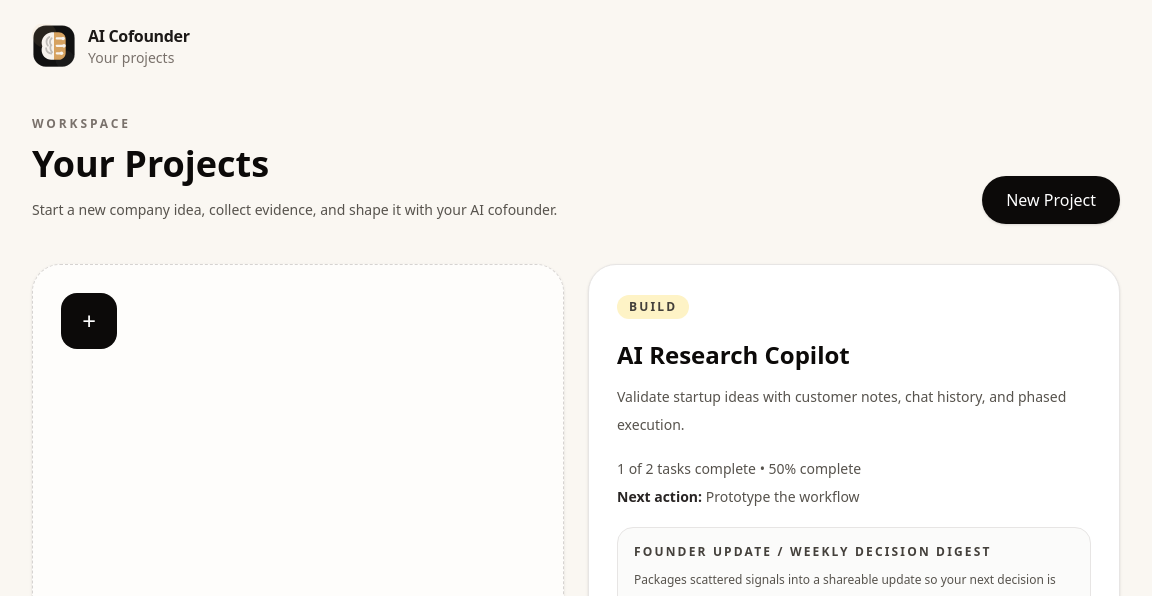
it: DashboardPage › does not clear the stored draft when a returning user opens onboarding
Click the button "New Project".
click(1051, 200)  # box [982,176,1120,224]
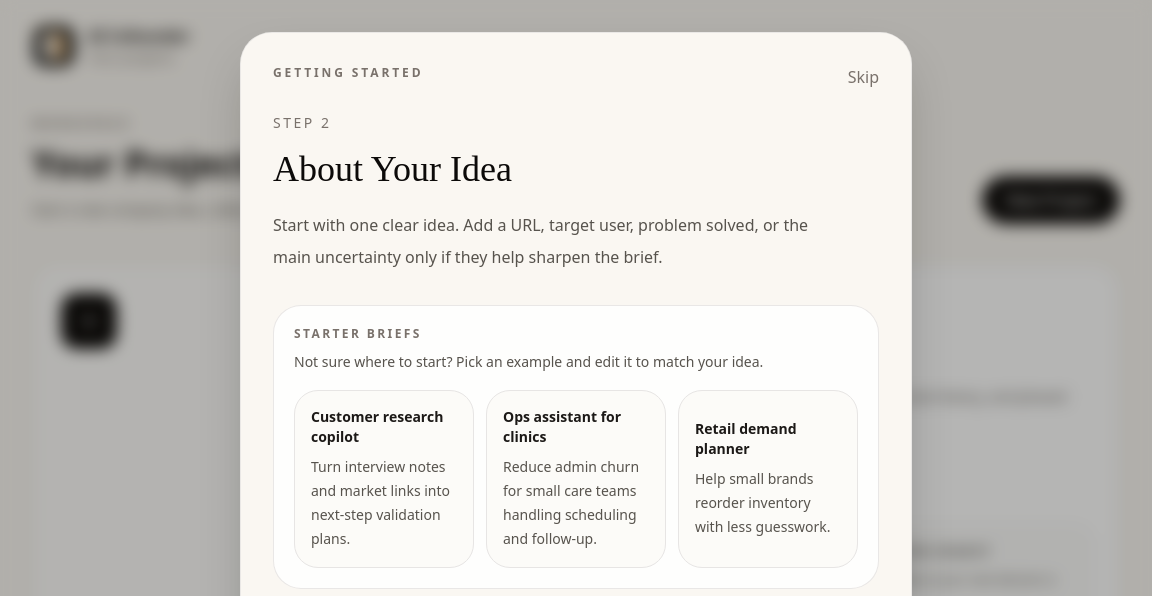
Result: the heading "About Your Idea" is shown at [273,149,512,189]
